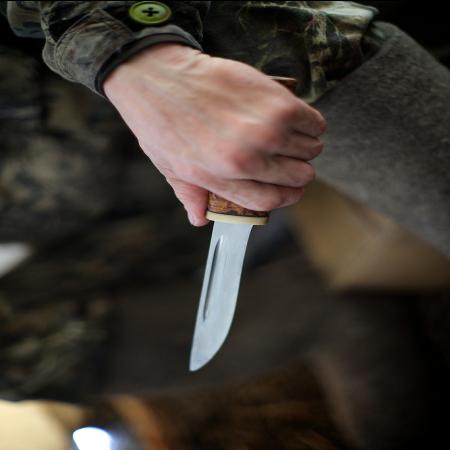long weapon: (176, 103, 331, 379)
